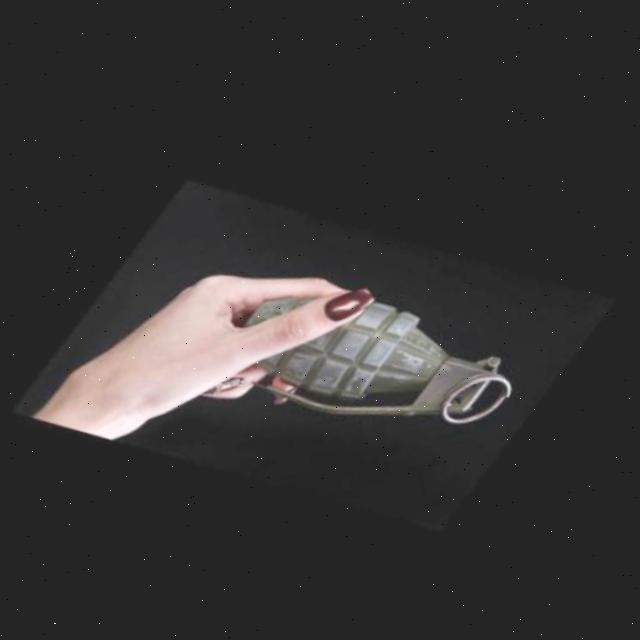grenade: (193, 194, 538, 504)
